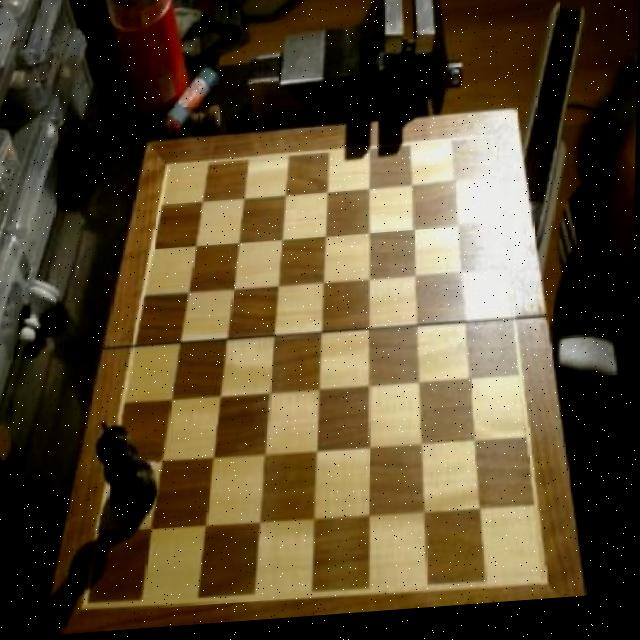black-bishop: (95, 417, 165, 535)
